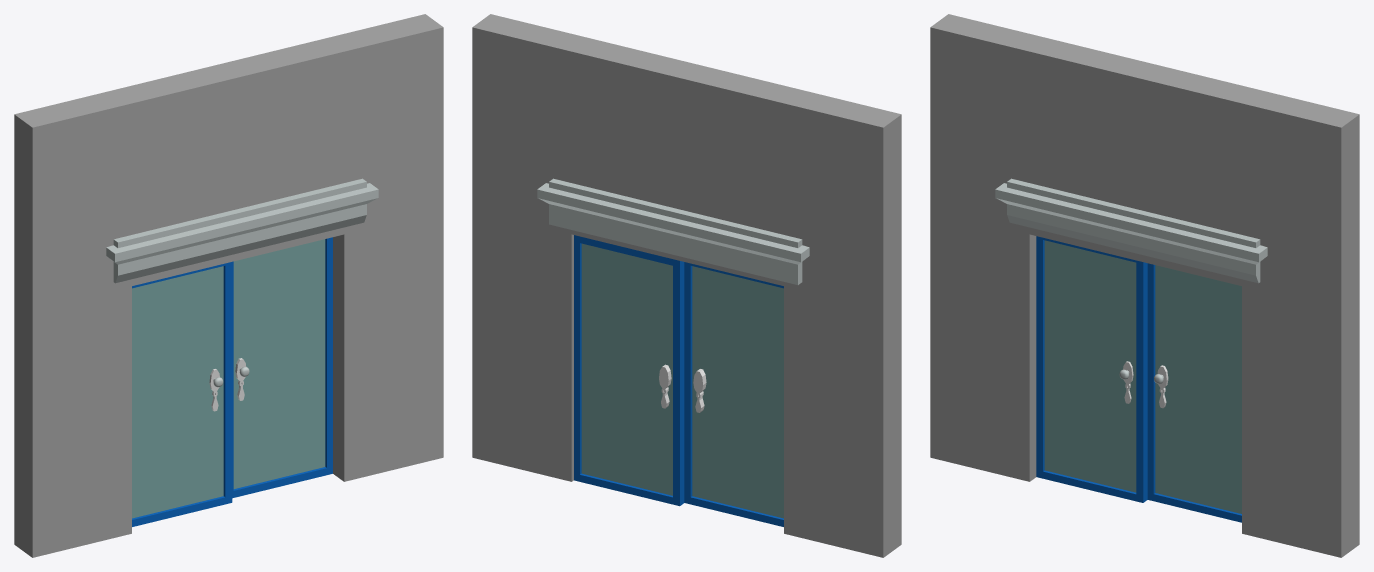
The model's file is NY_STreet_Door_C.fbx.
3 views of the same model, side by side, from view 1: azimuth 30°, elevation 25°; view 2: azimuth 150°, elevation 25°; view 3: azimuth 330°, elevation 25° (orthographic).
Parts seen in each view (by area): view 1: NY_STreet_Door_C; view 2: NY_STreet_Door_C; view 3: NY_STreet_Door_C.
Boxes of the visible parts, x1,y1,x2,y2 form: NY_STreet_Door_C: [14, 14, 443, 557]; NY_STreet_Door_C: [472, 14, 901, 557]; NY_STreet_Door_C: [930, 14, 1359, 557].
Size of the model in its own units: 400 by 400 by 60.35.
